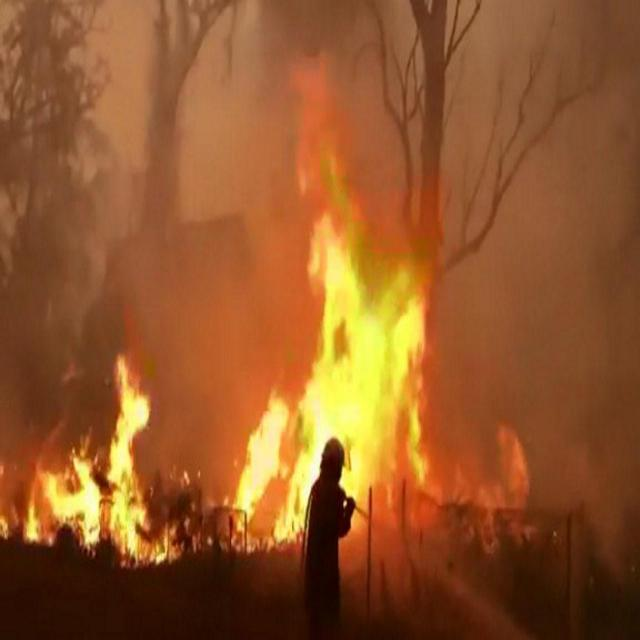fire: (230, 206, 446, 548), (26, 352, 171, 560)
